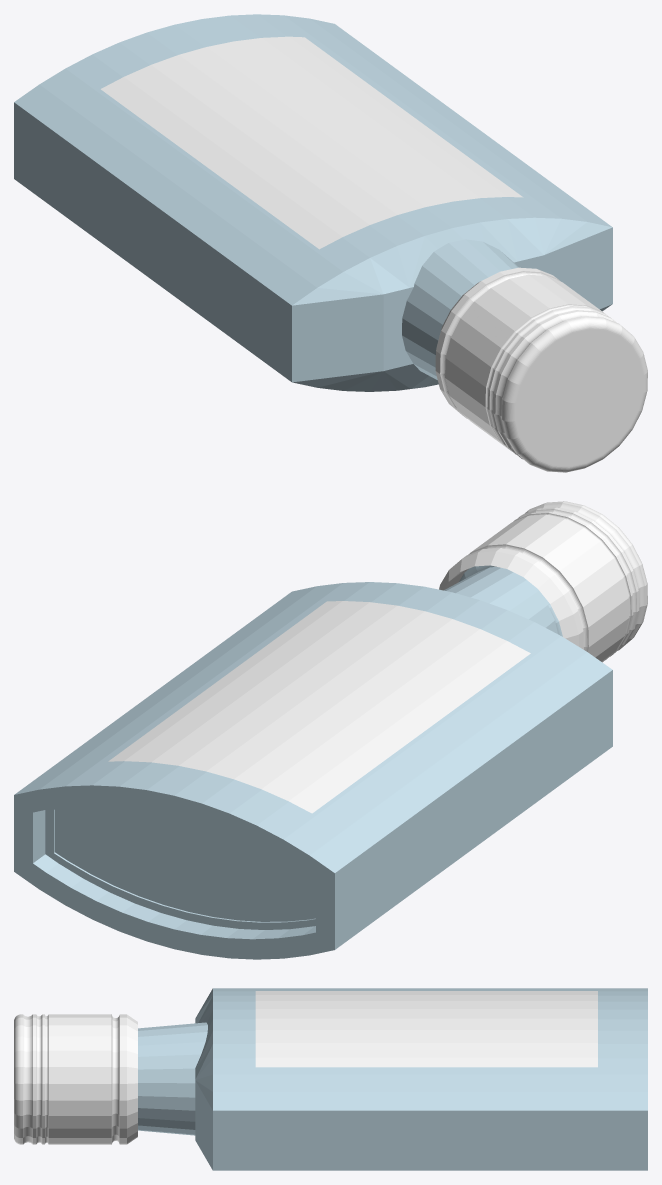
The picture shows the model from 3 angles, top to bottom: view 1: azimuth 30°, elevation 25°; view 2: azimuth 150°, elevation 25°; view 3: azimuth 270°, elevation 25°; orthographic projection. The views are drawn at different scales.
Visible parts, largest first — view 1: a bottle of wine; view 2: a bottle of wine; view 3: a bottle of wine.
Part boxes in pixels (left/top/right/bottom): a bottle of wine: left=14, top=14, right=647, bottom=472; a bottle of wine: left=14, top=501, right=647, bottom=959; a bottle of wine: left=14, top=988, right=647, bottom=1170.
Bounding box in the file's own units: 276 × 128 × 602.
